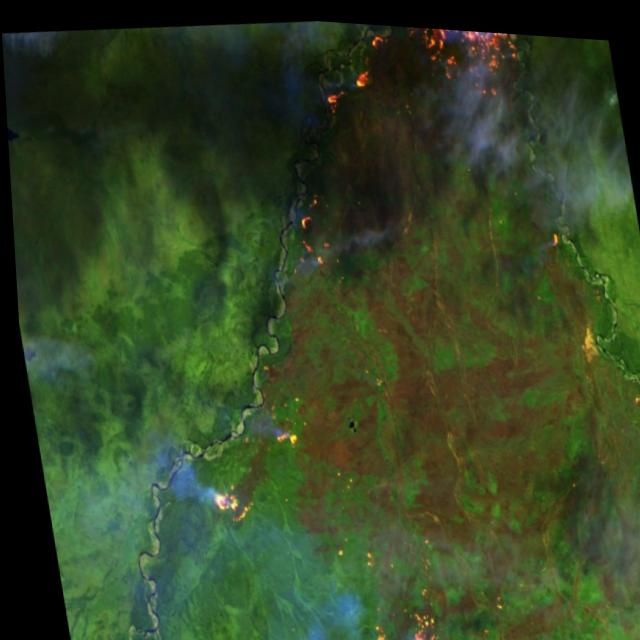fire: (304, 16, 533, 127), (353, 562, 437, 640), (280, 174, 339, 276), (200, 466, 256, 536), (261, 409, 299, 460), (535, 207, 566, 245)
